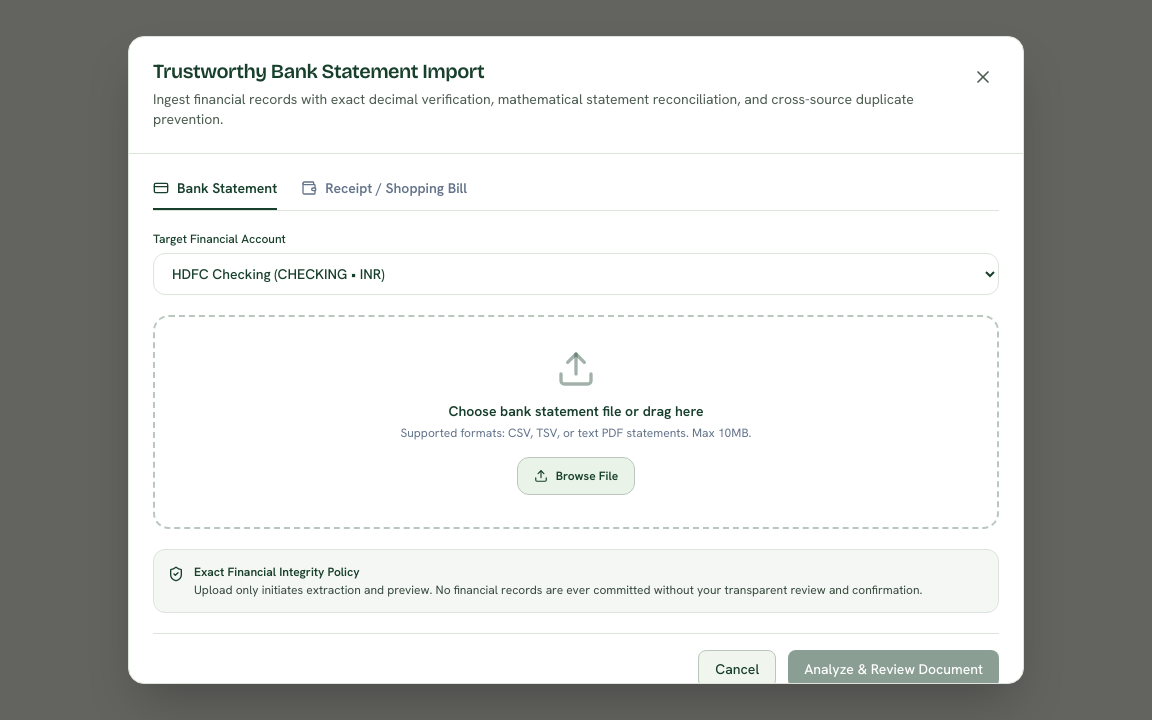
StatementImportModal › switches between statement mode and receipt mode
This screenshot has width=1152, height=720.
Click the button "Receipt / Shopping Bill" at [384, 194], box [301,178,467,210]
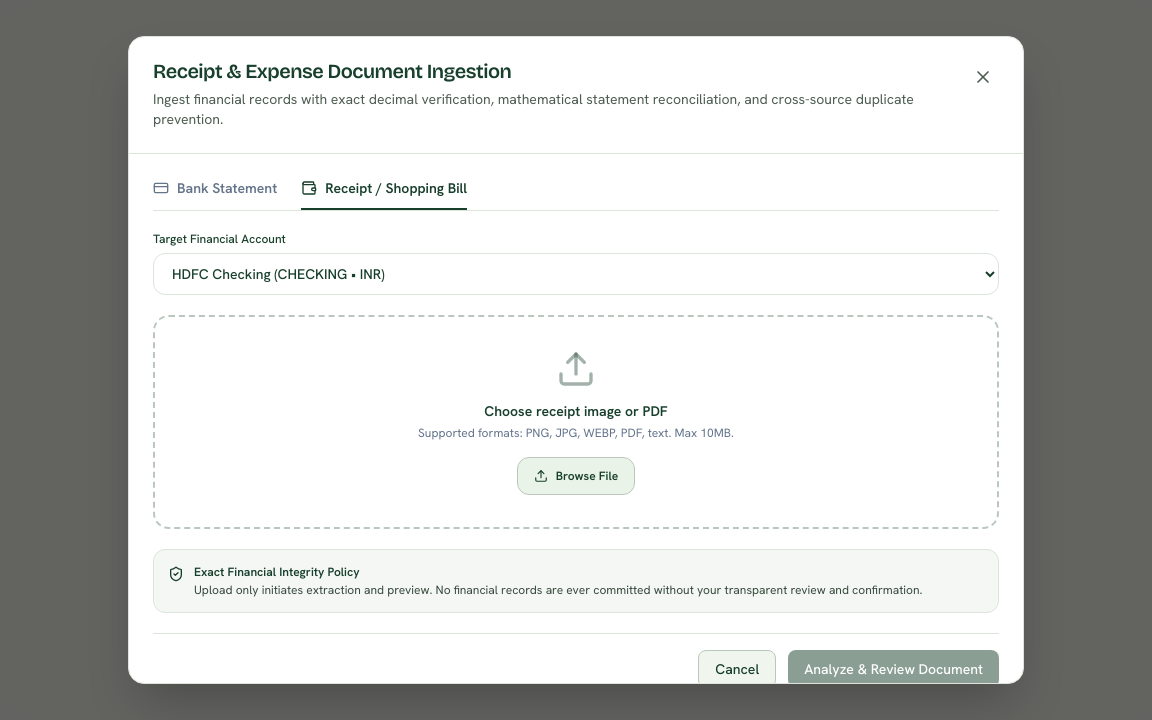
Result: the text "Choose receipt image or PDF" is shown at [484,402,668,420]
